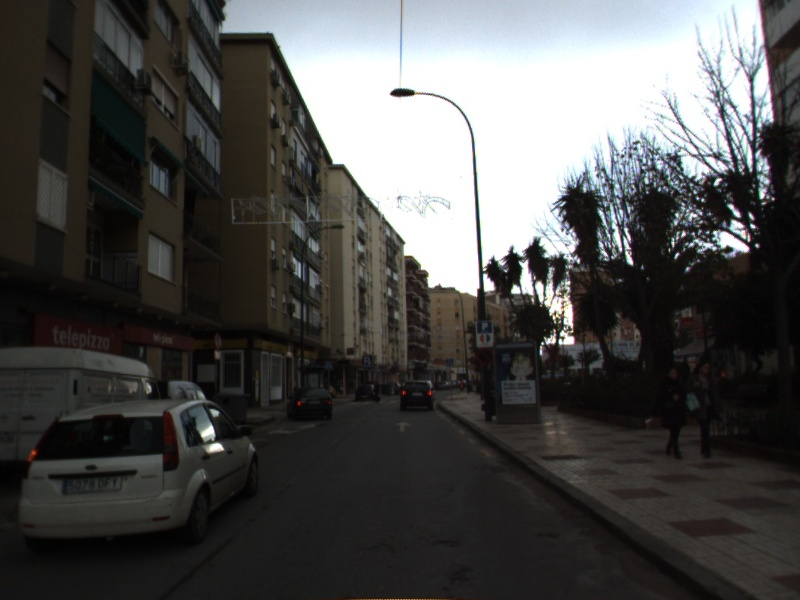STRAIGHT: (393, 419, 413, 433)
STRAIGHT_LEFT: (266, 422, 317, 437)
